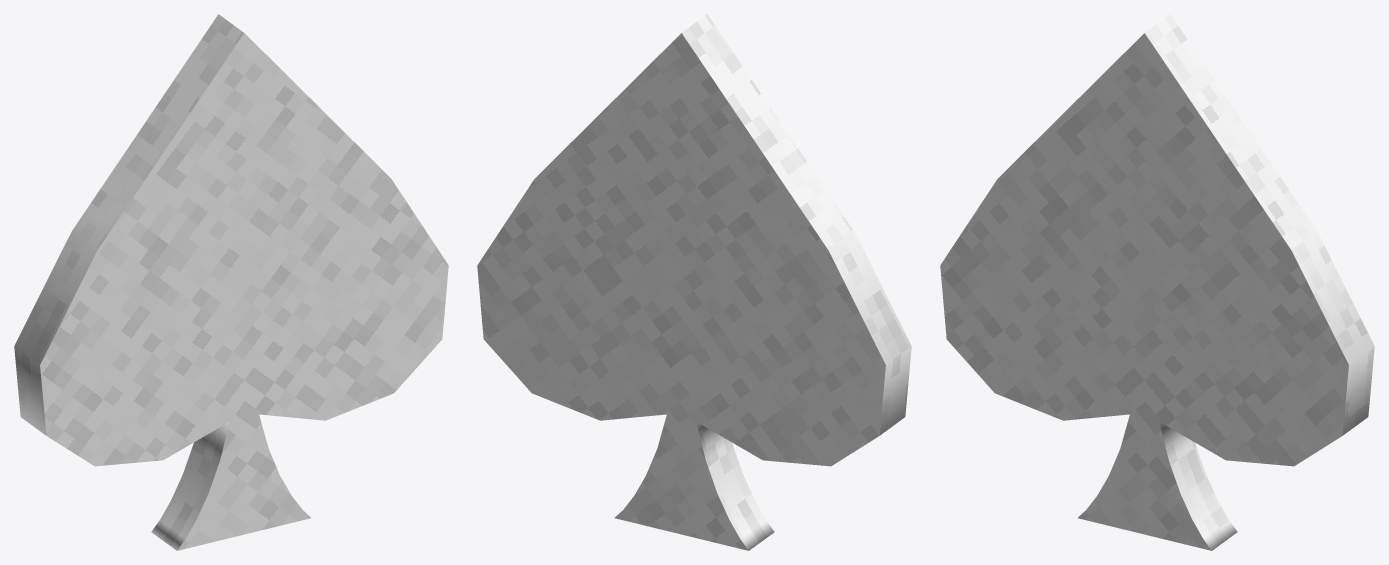
The model's file is spade.glb.
3 renders of one model, left to right at view 1: azimuth 30°, elevation 25°; view 2: azimuth 150°, elevation 25°; view 3: azimuth 330°, elevation 25°, orthographic.
Parts seen in each view (by area): view 1: Curve; view 2: Curve; view 3: Curve.
Boxes of the visible parts, left/top/right/bottom form: Curve: left=14, top=14, right=448, bottom=550; Curve: left=477, top=14, right=911, bottom=550; Curve: left=940, top=14, right=1374, bottom=550.
Bounding box in the file's own units: 2.74 × 3.22 × 0.3.
1 material, 1 textured.
